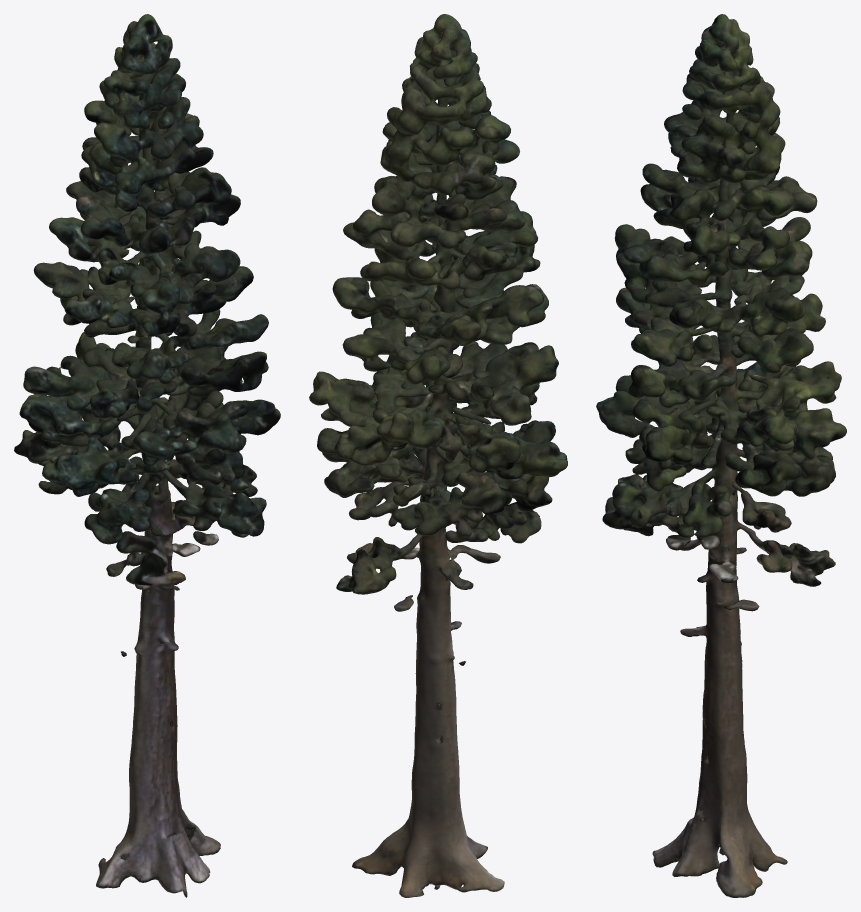
Rendered from winter-tree1.glb.
3 views of the same model, side by side, from view 1: azimuth 30°, elevation 25°; view 2: azimuth 150°, elevation 25°; view 3: azimuth 270°, elevation 25° (orthographic). The views are drawn at different scales.
Bounding box in the file's own units: 0.5366 × 2.02 × 0.5408.
Materials: 1 (1 with a texture image).
